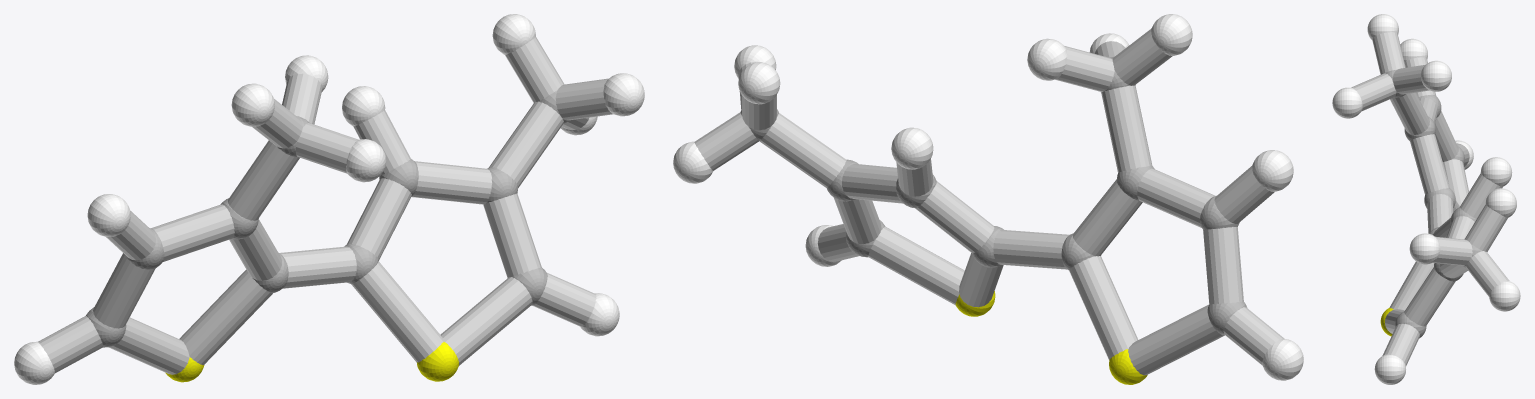
Rendered from Methylthiophene_Phi_10_Theta_130_Methylthiophene.glb.
3 renders of one model, left to right at view 1: azimuth 30°, elevation 25°; view 2: azimuth 150°, elevation 25°; view 3: azimuth 270°, elevation 25°, orthographic. The views are drawn at different scales.
Visible parts, largest first — view 1: grp7965, grp3621, grp1, grp7241; view 2: grp7965, grp3621, grp1, grp7241; view 3: grp7965, grp3621, grp1.
Part boxes in pixels (x1,y1,x2,y2): grp7965: (38, 37, 613, 374); grp3621: (14, 14, 644, 384); grp1: (86, 90, 568, 347); grp7241: (165, 342, 458, 382); grp7965: (694, 28, 1284, 375); grp3621: (673, 14, 1303, 380); grp1: (740, 56, 1247, 335); grp7241: (955, 291, 1147, 384); grp7965: (1351, 32, 1509, 365); grp3621: (1332, 14, 1520, 384); grp1: (1385, 70, 1482, 338).
Size of the model in its own units: 9.75 by 5.31 by 3.59.
